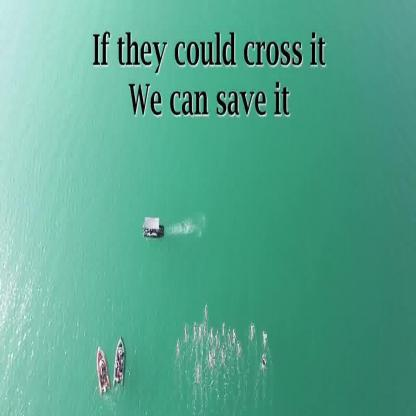Boat: (114, 336, 130, 389), (94, 344, 110, 396)
